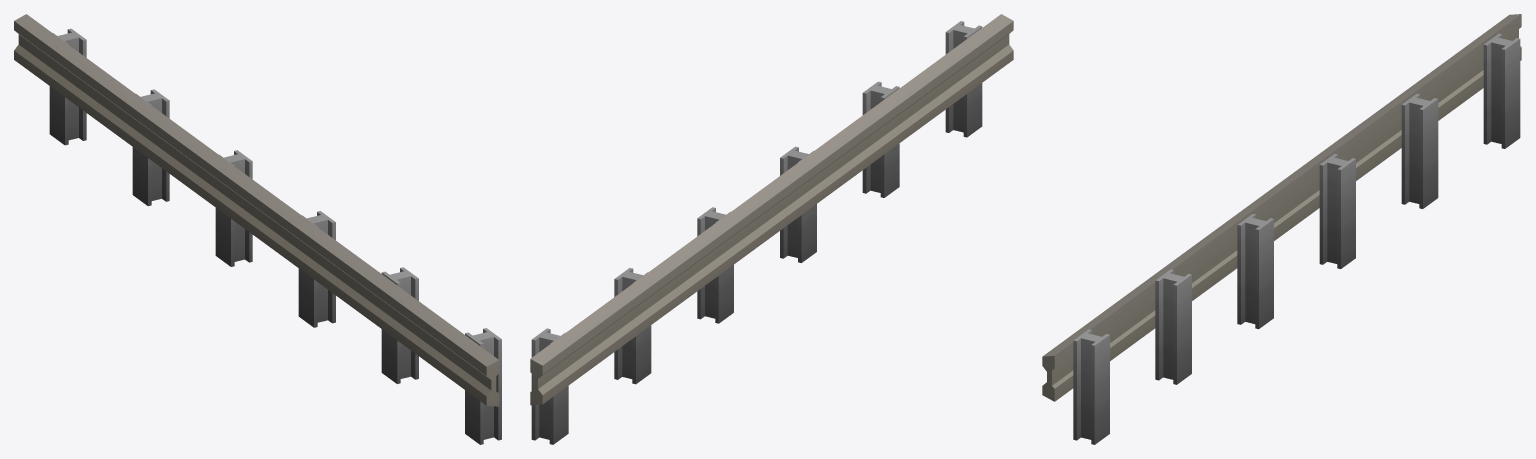
Rendered from RoadBarier_2_C_1.fbx.
3 views of the same model, side by side, from view 1: azimuth 30°, elevation 25°; view 2: azimuth 150°, elevation 25°; view 3: azimuth 330°, elevation 25° (orthographic).
Visible parts, largest first — view 1: RoadBarier_2_C_1; view 2: RoadBarier_2_C_1; view 3: RoadBarier_2_C_1.
Part boxes in pixels (x1=…): RoadBarier_2_C_1: x1=14, y1=14, x2=501, y2=444; RoadBarier_2_C_1: x1=530, y1=14, x2=1013, y2=444; RoadBarier_2_C_1: x1=1042, y1=14, x2=1521, y2=444.
Size of the model in its own units: 25.02 by 73.47 by 600.
